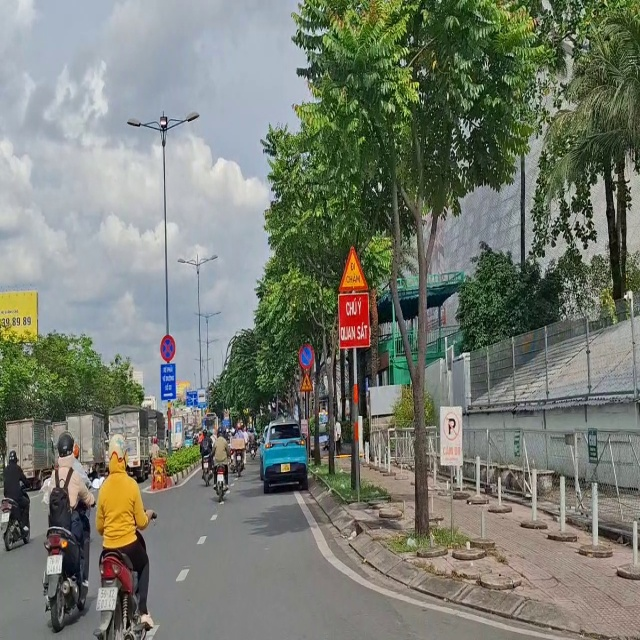cam do xe: (288, 333, 319, 373)
cam dung cam do: (159, 328, 180, 362)
di cham: (332, 239, 374, 295)
